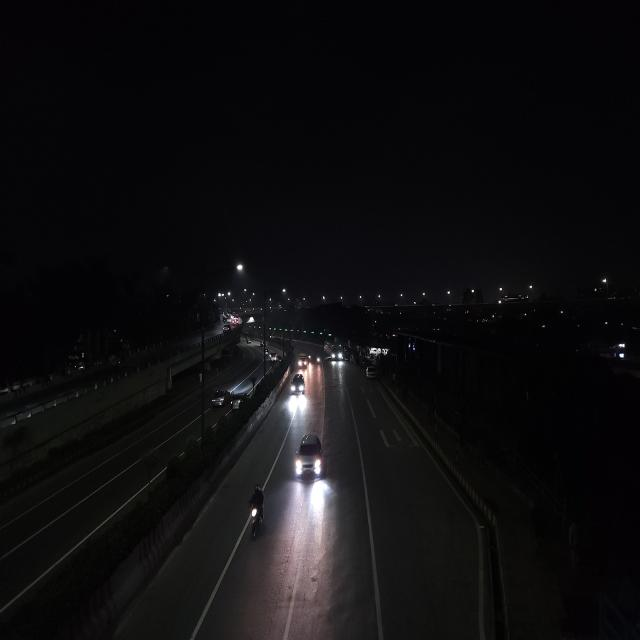bus: (330, 339, 344, 362)
car: (291, 431, 328, 484), (289, 371, 307, 398), (231, 388, 251, 411), (210, 386, 230, 408), (365, 365, 378, 381), (269, 350, 279, 362), (222, 323, 232, 334), (313, 353, 321, 365)
motorcycle: (243, 482, 269, 544)
pickup_van: (298, 353, 308, 371)
